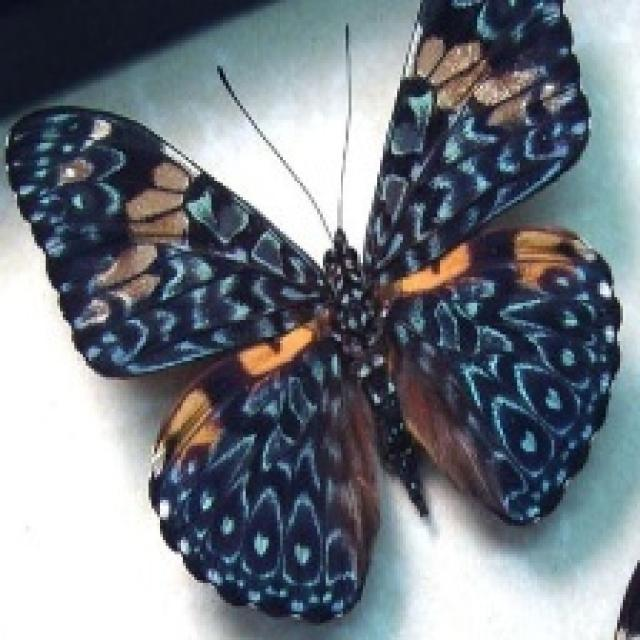butterfly: (0, 0, 623, 623)
